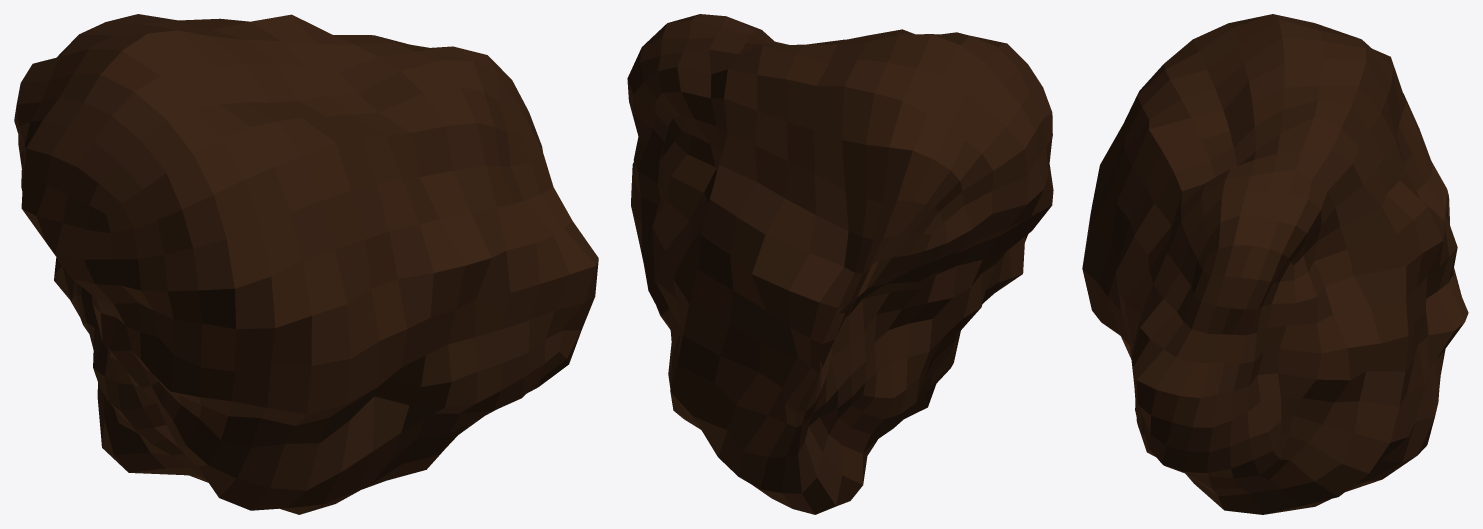
The model's file is Asteroid4.fbx.
3 renders of one model, left to right at view 1: azimuth 30°, elevation 25°; view 2: azimuth 150°, elevation 25°; view 3: azimuth 270°, elevation 25°, orthographic. The views are drawn at different scales.
Parts seen in each view (by area): view 1: Asteroid4; view 2: Asteroid4; view 3: Asteroid4.
Part boxes in pixels (box(x1,y1,x2,y2)): Asteroid4: box(14, 14, 598, 514); Asteroid4: box(627, 14, 1053, 514); Asteroid4: box(1082, 14, 1468, 514).
Bounding box in the file's own units: 5966 × 5700 × 4814.
